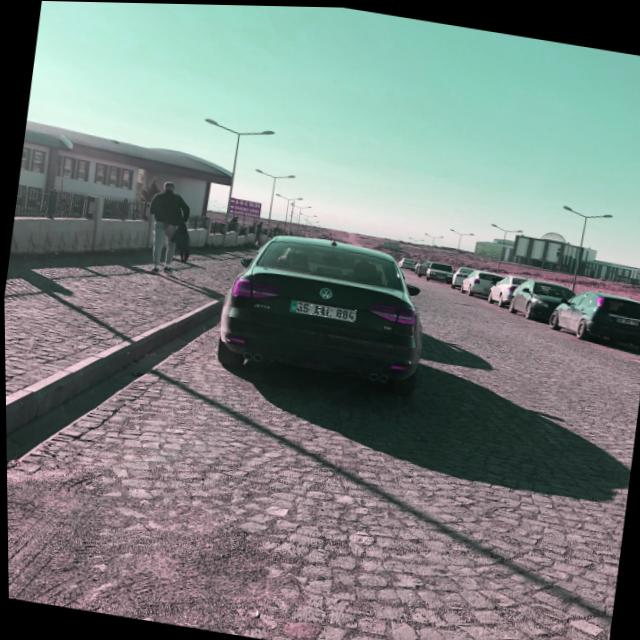license_plate: (288, 298, 358, 320)
